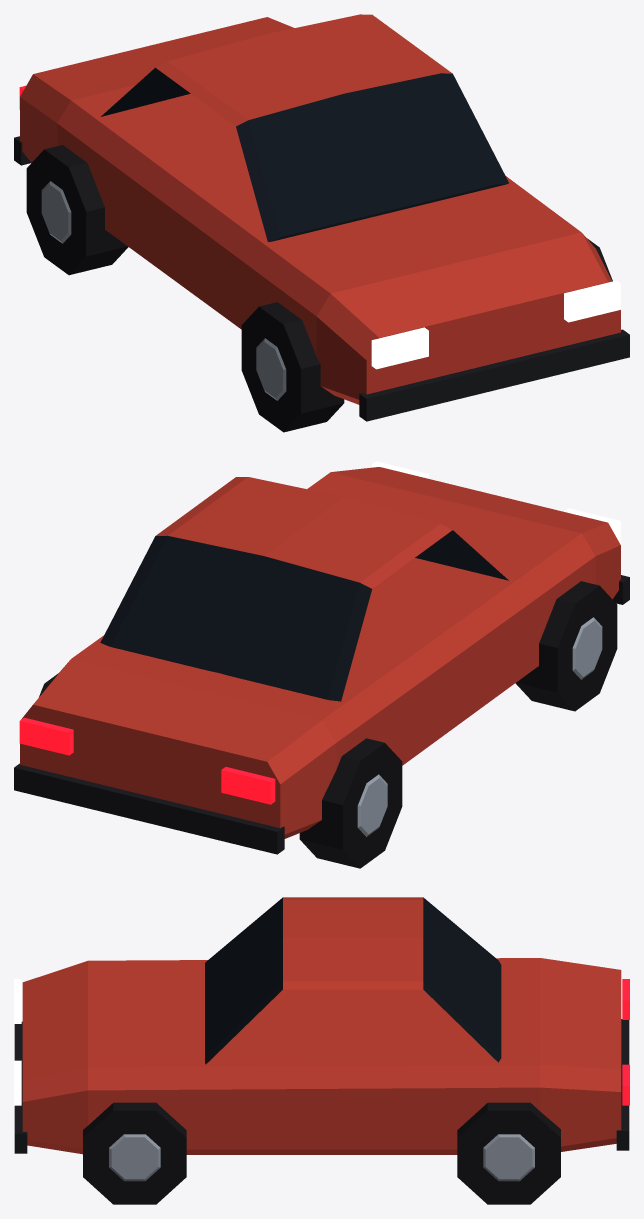
The model's file is car.glb.
The picture shows the model from 3 angles, top to bottom: view 1: azimuth 30°, elevation 25°; view 2: azimuth 150°, elevation 25°; view 3: azimuth 270°, elevation 25°; orthographic projection. The views are drawn at different scales.
Parts seen in each view (by area): view 1: Body, Cabin, BumperF, Wheel0, Wheel2, Head-1, Head1, Hub0, Hub2; view 2: Body, Cabin, BumperR, Wheel2, Wheel0, Tail1, Tail-1, Hub0, Hub2; view 3: Body, Cabin, Wheel3, Wheel1, Hub1, Hub3, BumperR, BumperF.
Boxes of the visible parts, box(x1,y1,x2,y2) form: Body: box(20, 17, 620, 404); Cabin: box(101, 14, 508, 241); BumperF: box(359, 329, 629, 421); Wheel0: box(241, 302, 344, 432); Wheel2: box(26, 145, 128, 275); Head-1: box(371, 327, 428, 369); Head1: box(564, 280, 620, 322); Hub0: box(256, 338, 286, 400); Hub2: box(41, 181, 71, 243); Body: box(20, 467, 620, 838); Cabin: box(100, 477, 508, 701); BumperR: box(14, 763, 284, 854); Wheel2: box(299, 738, 402, 868); Wheel0: box(515, 581, 617, 711); Tail1: box(19, 717, 73, 755); Tail-1: box(221, 767, 275, 804); Hub0: box(572, 617, 602, 679); Hub2: box(357, 774, 387, 836); Body: box(22, 958, 621, 1154); Cabin: box(205, 897, 501, 1064); Wheel3: box(457, 1102, 560, 1204); Wheel1: box(83, 1102, 186, 1204); Hub1: box(109, 1134, 160, 1181); Hub3: box(483, 1134, 534, 1181); BumperR: box(616, 1019, 629, 1150); BumperF: box(14, 1021, 27, 1153).
Bounding box in the file's own units: 2.06 × 1.41 × 3.95.
